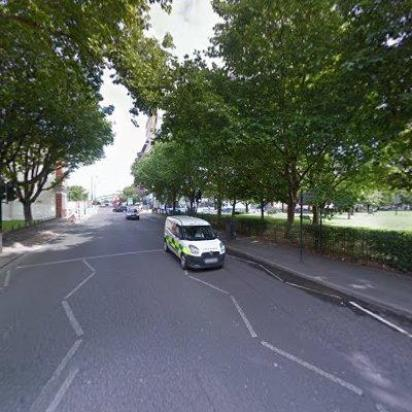moving-car: (124, 206, 142, 222)
moving-light-truck: (162, 214, 228, 274)
